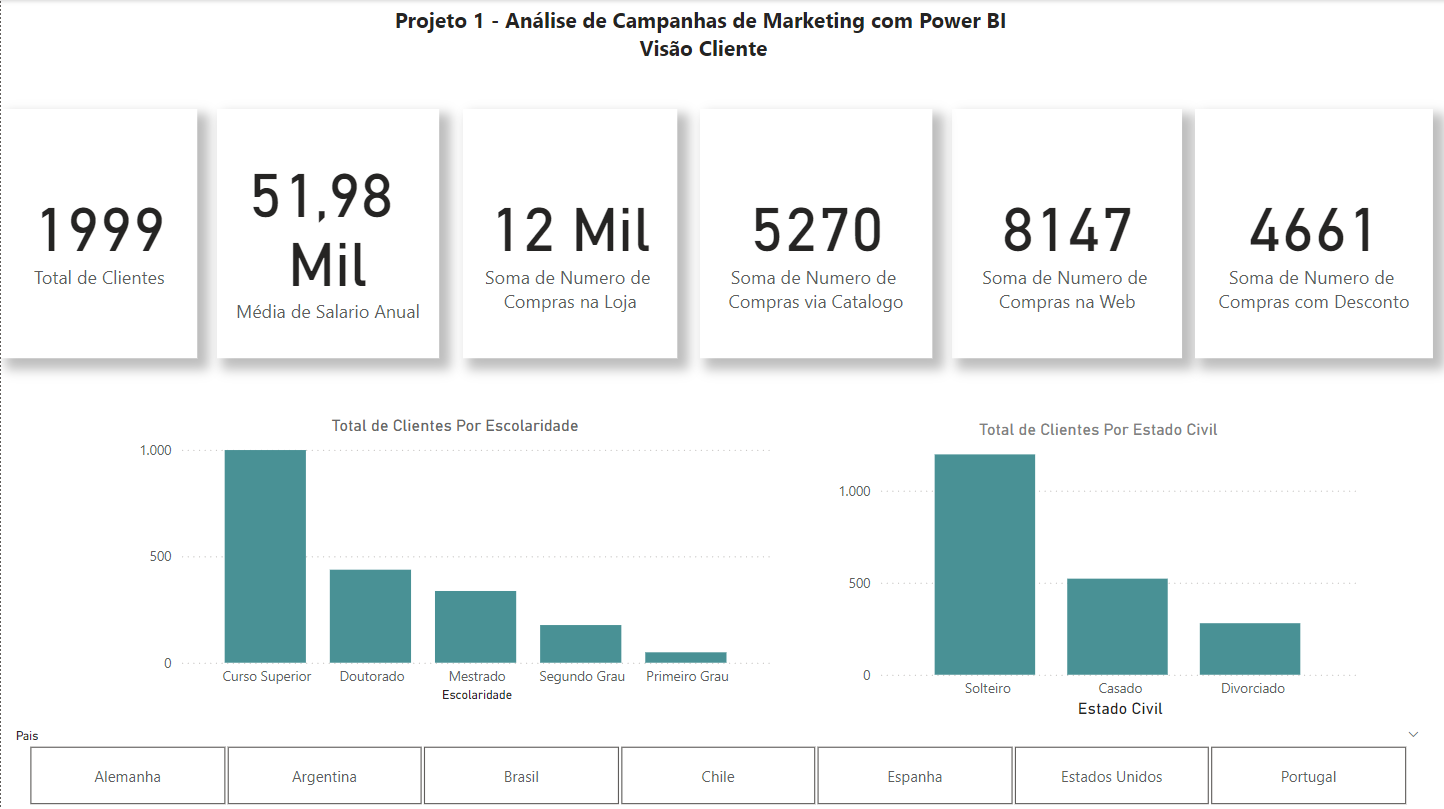

Layout of this report page (visuals, bound fields, positions):
{"tool":"powerbi","page":{"name":"Visão Cliente","canvas":[1280,720],"ordinal":0},"visuals":[{"type":"card","fields":{"Values":["CountNonNull(DadosMarketing.ID)"]},"box":[0,96.7,174.4,221.1],"z":0},{"type":"card","fields":{"Values":["Avg(DadosMarketing.Salario Anual)"]},"box":[191.1,96.7,196.7,221.1],"z":1000},{"type":"card","fields":{"Values":["Sum(DadosMarketing.Numero de Compras na Loja)"]},"box":[410,96.7,190,221.1],"z":2000},{"type":"card","fields":{"Values":["Sum(DadosMarketing.Numero de Compras na Web)"]},"box":[843.3,96.7,204.4,221.1],"z":3000},{"type":"card","fields":{"Values":["Sum(DadosMarketing.Numero de Compras com Desconto)"]},"box":[1058.9,96.7,211.1,221.1],"z":4000},{"type":"card","fields":{"Values":["Sum(DadosMarketing.Numero de Compras via Catalogo)"]},"box":[620,96.7,205.6,221.1],"z":5000},{"type":"textbox","box":[160.5,0,924.8,74.5],"z":6000},{"type":"clusteredColumnChart","title":"Total de Clientes Por Escolaridade","fields":{"Category":["DadosMarketing.Escolaridade"],"Y":["CountNonNull(DadosMarketing.ID)"]},"box":[116.7,368.9,571.1,257.8],"z":7000},{"type":"clusteredColumnChart","title":"Total de Clientes Por Estado Civil","fields":{"Category":["DadosMarketing.Estado Civil"],"Y":["CountNonNull(DadosMarketing.ID)"]},"box":[736.7,372.2,472.2,268.9],"z":8000},{"type":"slicer","fields":{"Values":["DadosMarketing.Pais"]},"box":[0,641,1269.7,79],"z":9000}]}

Visuals, with their boxes in screenshot pixels (x1, y1, x2, y2), scaled from the page's 1280x720 canvas onto the 1444x809 screenshot:
card - CountNonNull(DadosMarketing.ID): 0 109 197 357
card - Avg(DadosMarketing.Salario Anual): 216 109 437 357
card - Sum(DadosMarketing.Numero de Compras na Loja): 463 109 677 357
card - Sum(DadosMarketing.Numero de Compras na Web): 951 109 1182 357
card - Sum(DadosMarketing.Numero de Compras com Desconto): 1195 109 1433 357
card - Sum(DadosMarketing.Numero de Compras via Catalogo): 699 109 931 357
textbox: 181 0 1224 84
"Total de Clientes Por Escolaridade" clusteredColumnChart: 132 415 776 704
"Total de Clientes Por Estado Civil" clusteredColumnChart: 831 418 1364 720
slicer - DadosMarketing.Pais: 0 720 1432 808
